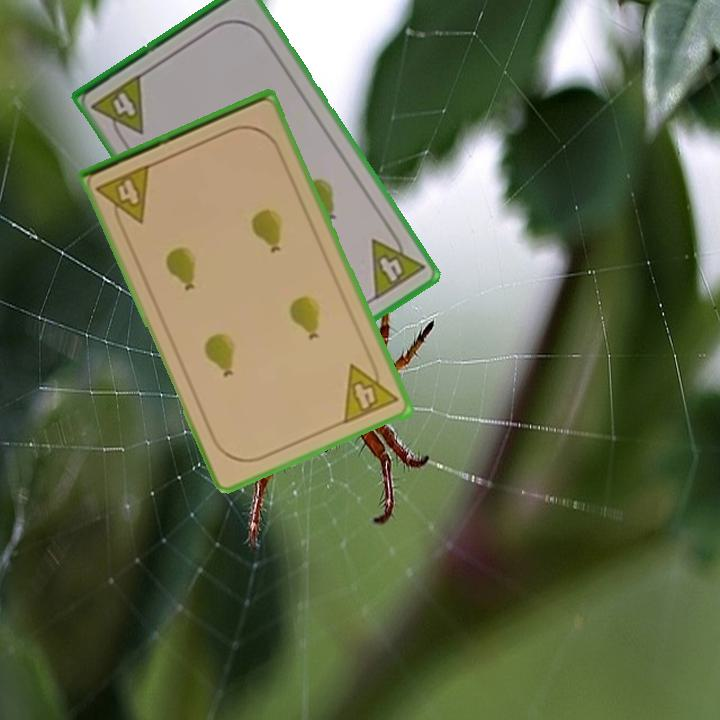4p: (367, 224, 428, 303), (88, 70, 148, 147), (339, 354, 401, 427), (92, 160, 154, 233)
